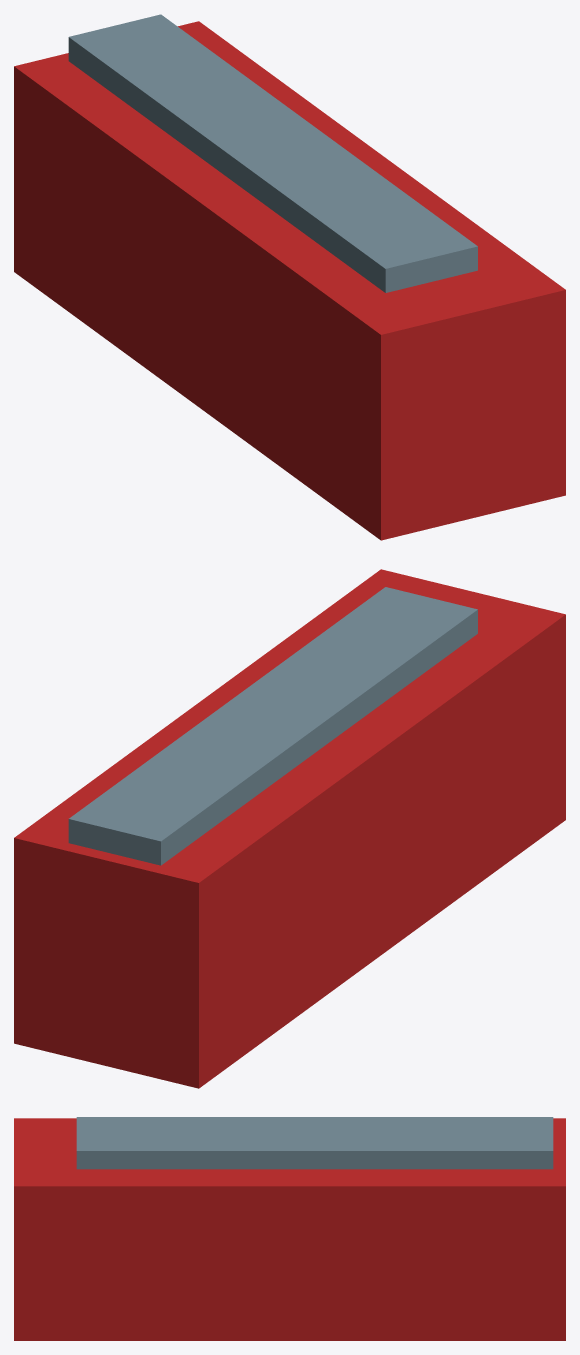
File: fire_truck.glb
The picture shows the model from 3 angles, top to bottom: view 1: azimuth 30°, elevation 25°; view 2: azimuth 150°, elevation 25°; view 3: azimuth 270°, elevation 25°; orthographic projection. The views are drawn at different scales.
Size of the model in its own units: 3.2 by 3.8 by 11.
